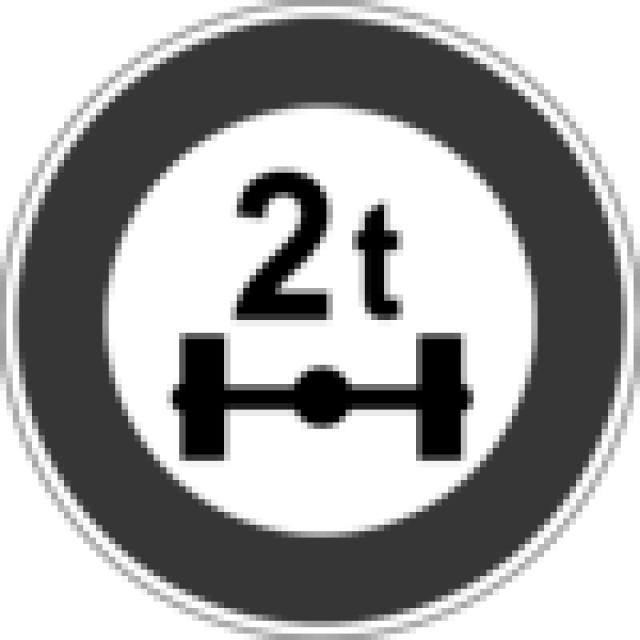forbidden: (0, 0, 639, 635)
